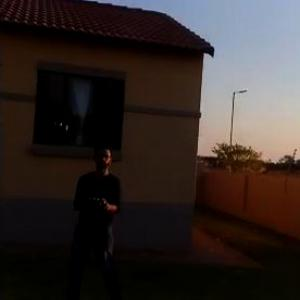follow: (63, 135, 139, 299)
